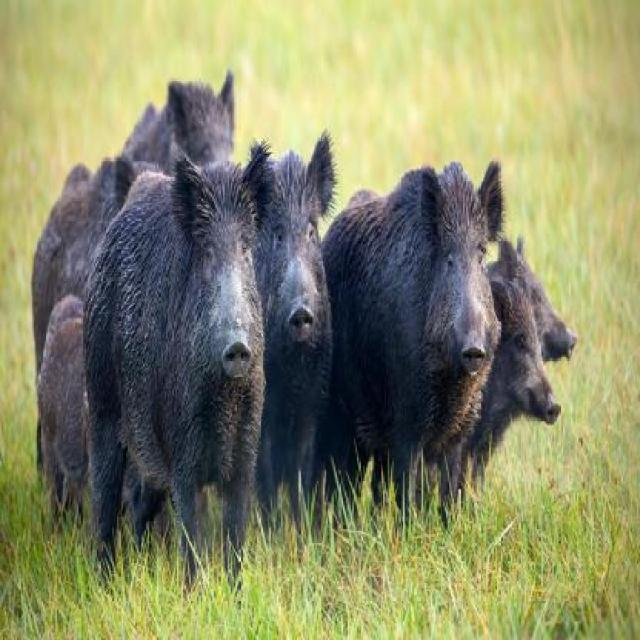wildboar: (78, 136, 282, 589), (308, 143, 506, 555), (19, 63, 246, 386), (218, 123, 342, 554), (16, 286, 192, 545), (427, 263, 568, 548), (452, 223, 580, 457)
